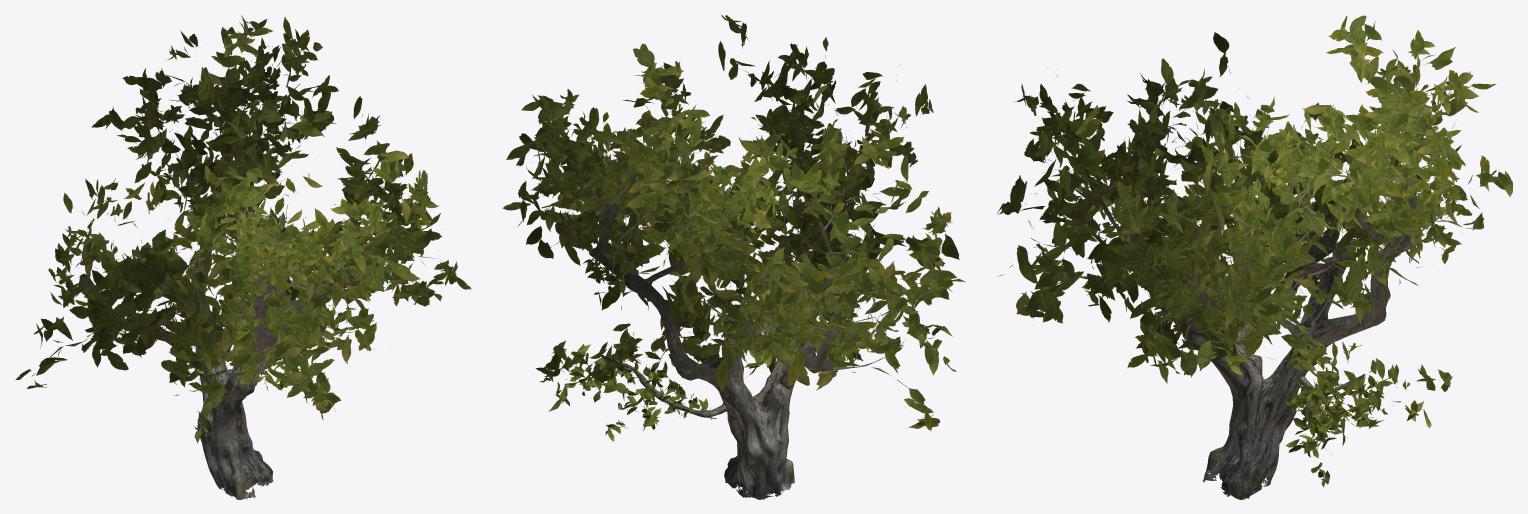
Rendered from tree_oak_wide.glb.
3 renders of one model, left to right at view 1: azimuth 30°, elevation 25°; view 2: azimuth 150°, elevation 25°; view 3: azimuth 270°, elevation 25°, orthographic. The views are drawn at different scales.
Visible parts, largest first — view 1: oak_wide; view 2: oak_wide; view 3: oak_wide.
Boxes of the visible parts, box(x1,y1,x2,y2) form: oak_wide: box(15, 15, 471, 499); oak_wide: box(502, 14, 965, 499); oak_wide: box(997, 15, 1512, 499).
Bounding box in the file's own units: 8.04 × 8.44 × 7.96.
3 materials, 3 textured.
